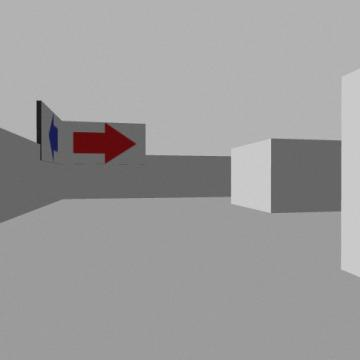blue_left: (49, 115, 57, 159)
red_right: (73, 124, 136, 163)
